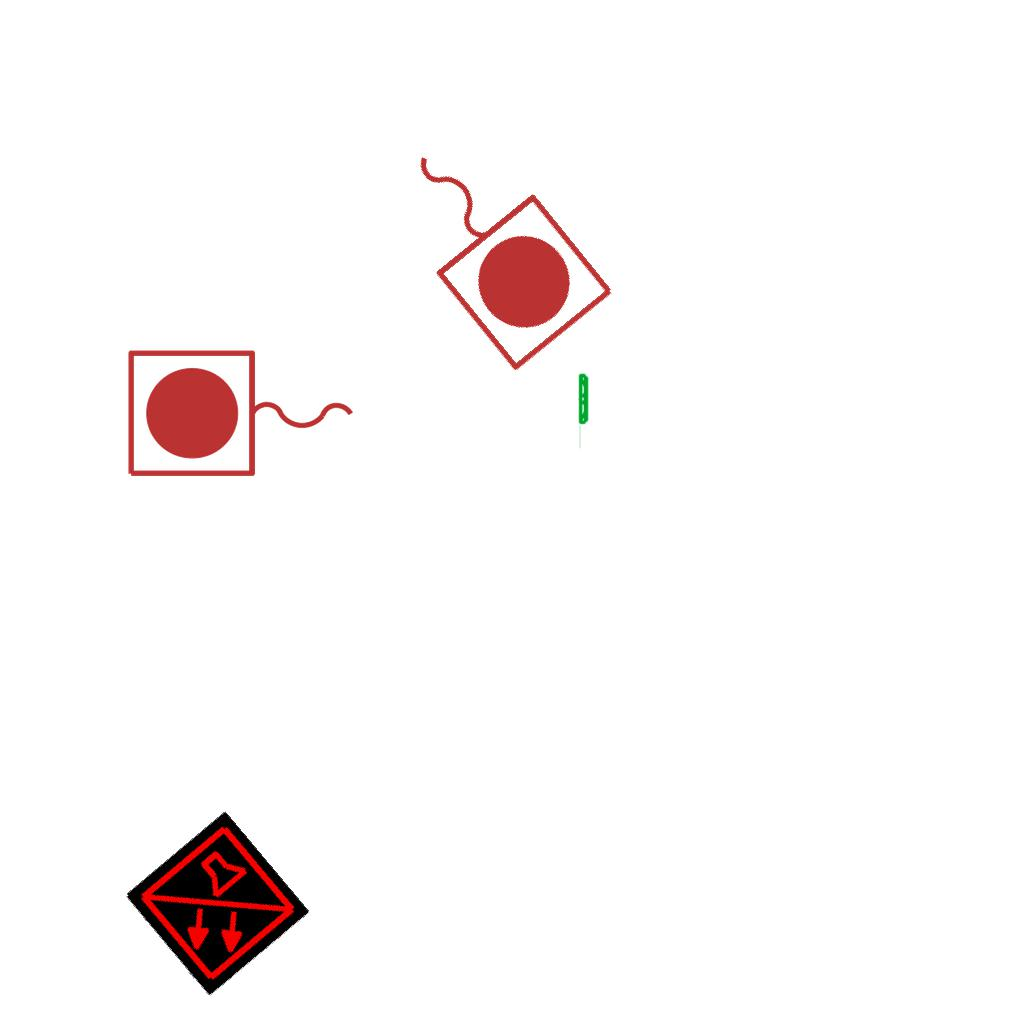OKW_Multisensormelder_(Kombination_optischer_Rauch-Kahlenmonoxid_Waerme-Melder): (124, 811, 310, 997)
Sicherheitsleuchte_Wandeinbau: (578, 372, 590, 451)
Zugtaster: (361, 101, 627, 383), (120, 343, 364, 487)
